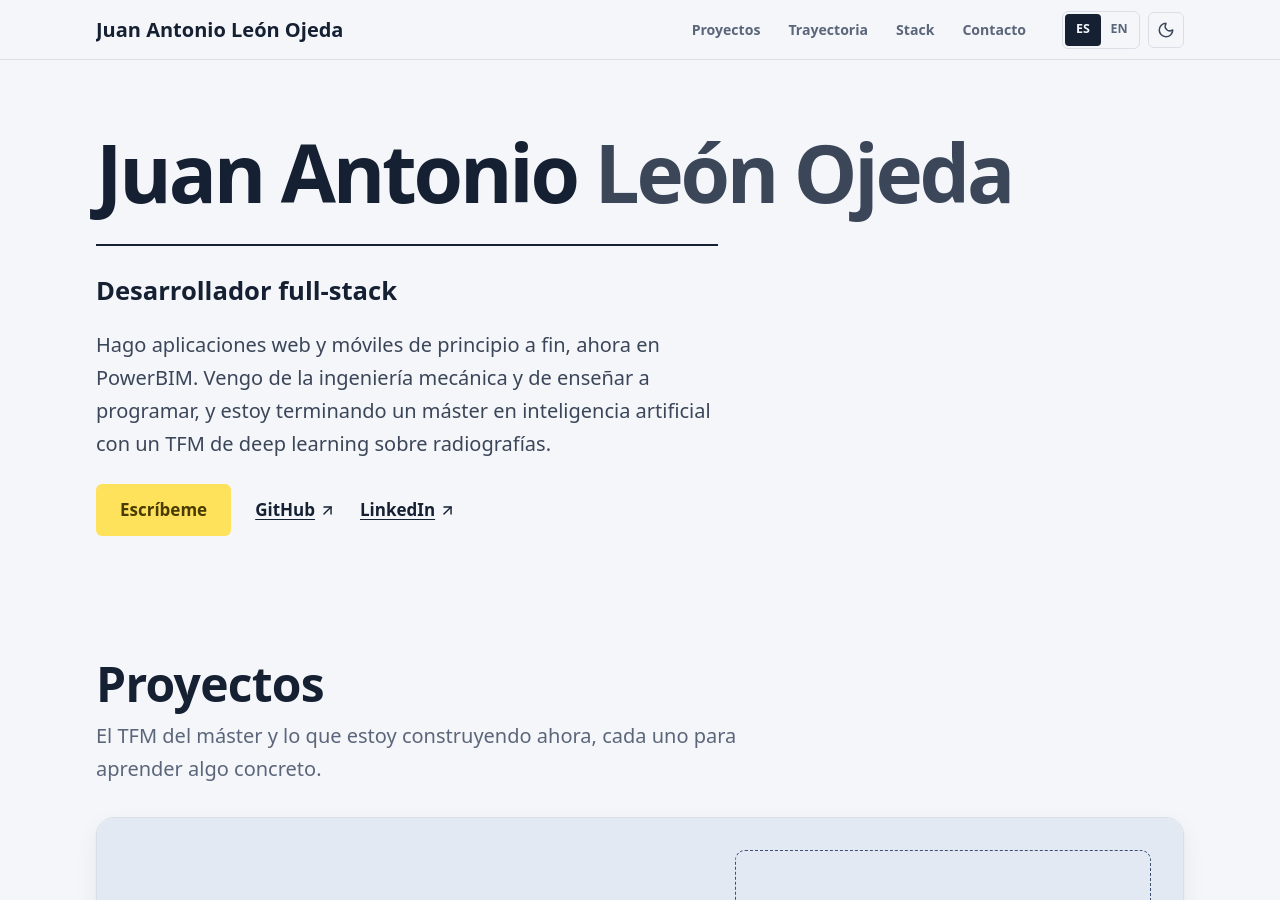
Test case: App › toggles the theme and names the next action
Click the button named "Cambiar a tema oscuro".
click(1166, 30)  # box [1148,12,1184,48]
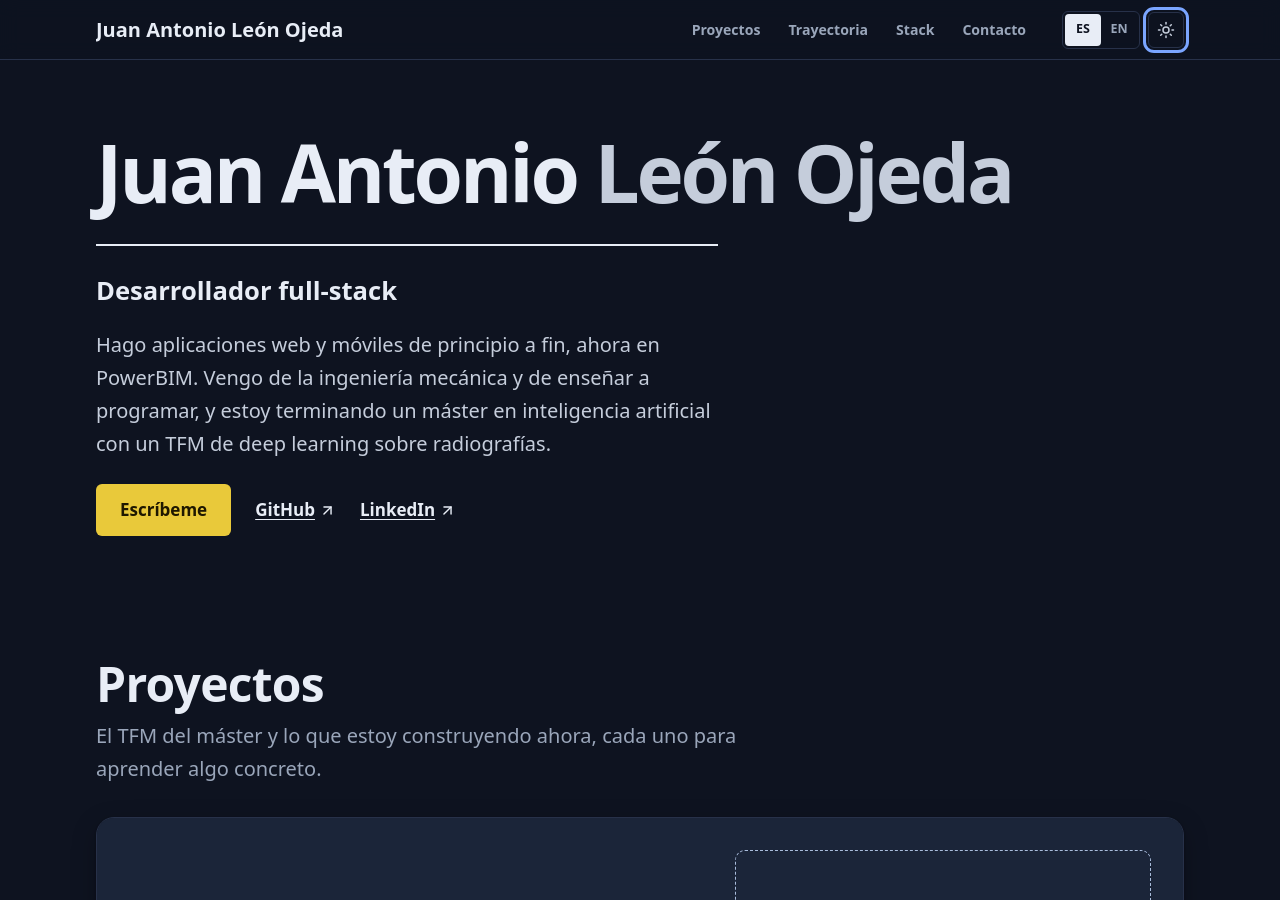
Now the button named "Cambiar a tema claro" is shown, box [1148,12,1184,48]
